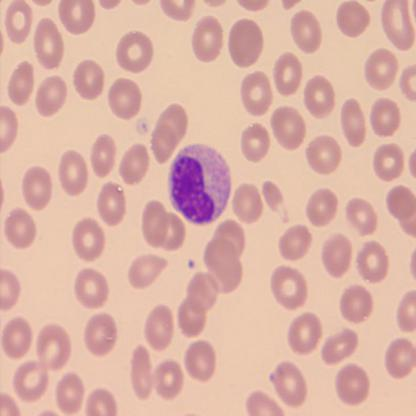Metamyelocyte: (166, 141, 234, 228)
